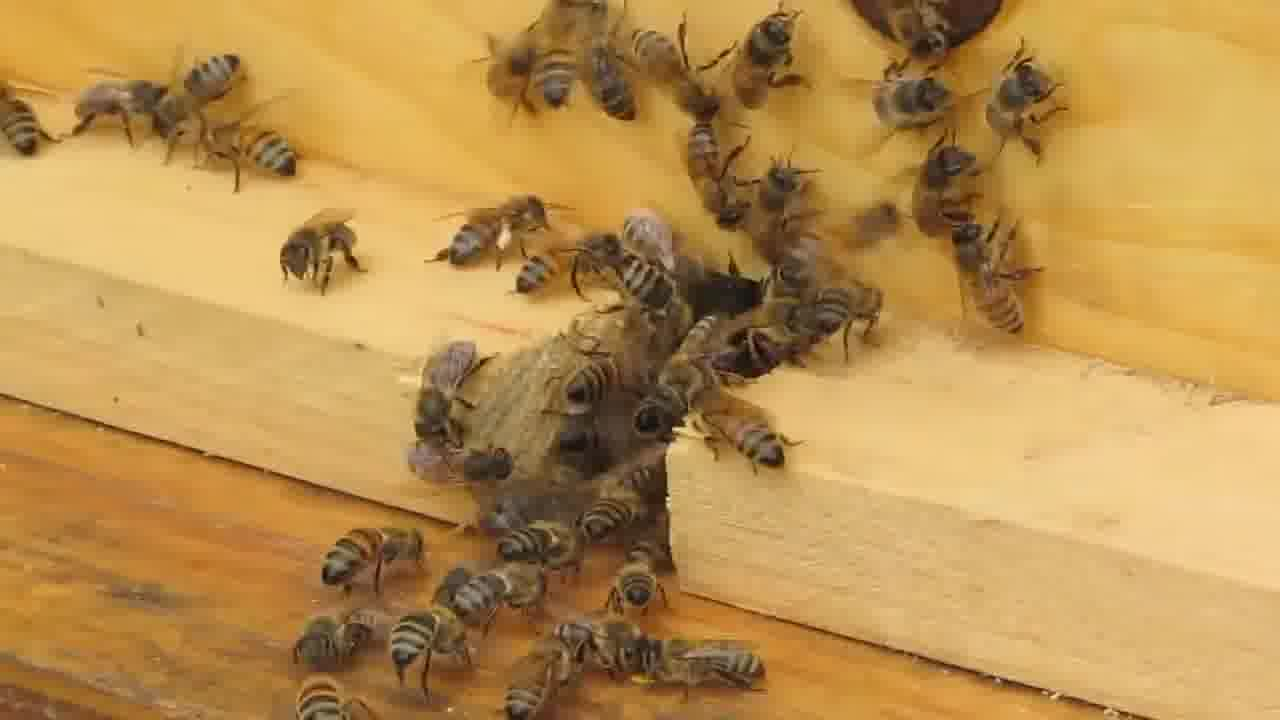pollen: (442, 175, 553, 260)
